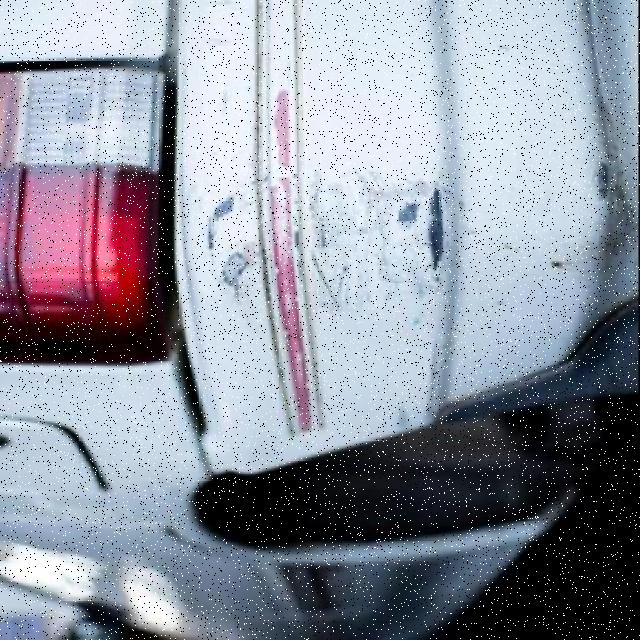damage: (209, 166, 457, 310), (551, 98, 636, 280)
